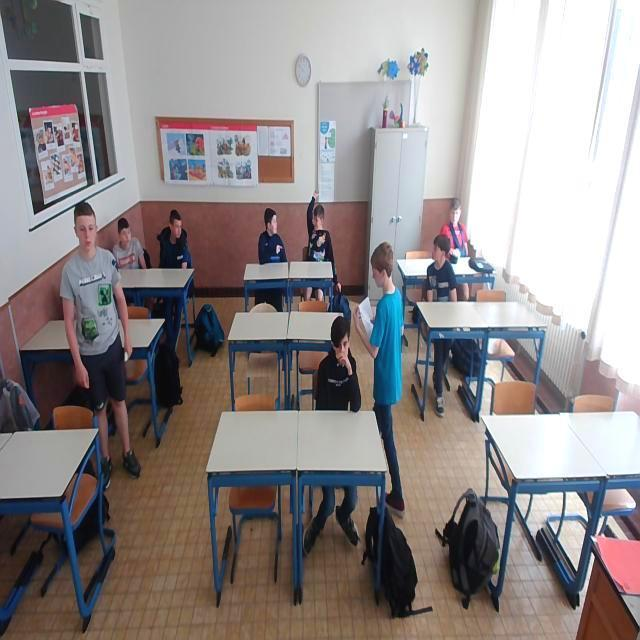Looking away: (366, 244, 397, 288), (260, 208, 284, 246), (116, 216, 138, 253), (432, 232, 452, 272), (169, 211, 185, 240)
Looking forward: (68, 198, 102, 258), (323, 314, 359, 367), (448, 198, 466, 232)
Raising hand: (298, 186, 339, 297)
